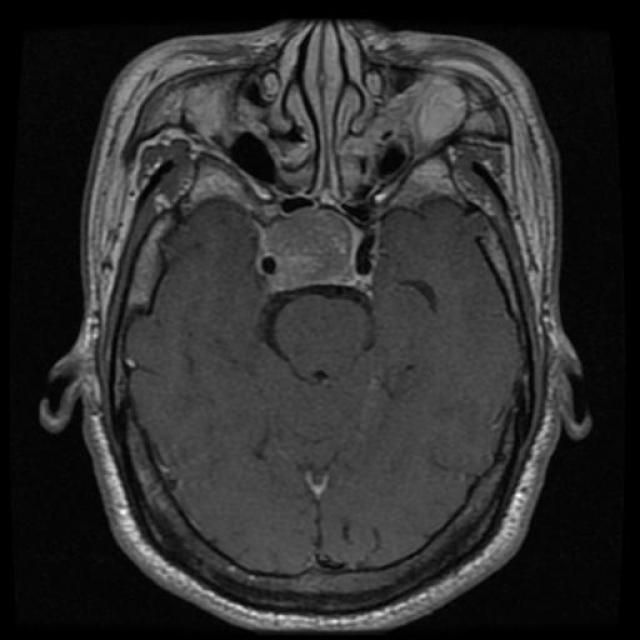pituitary: (260, 210, 387, 304)
